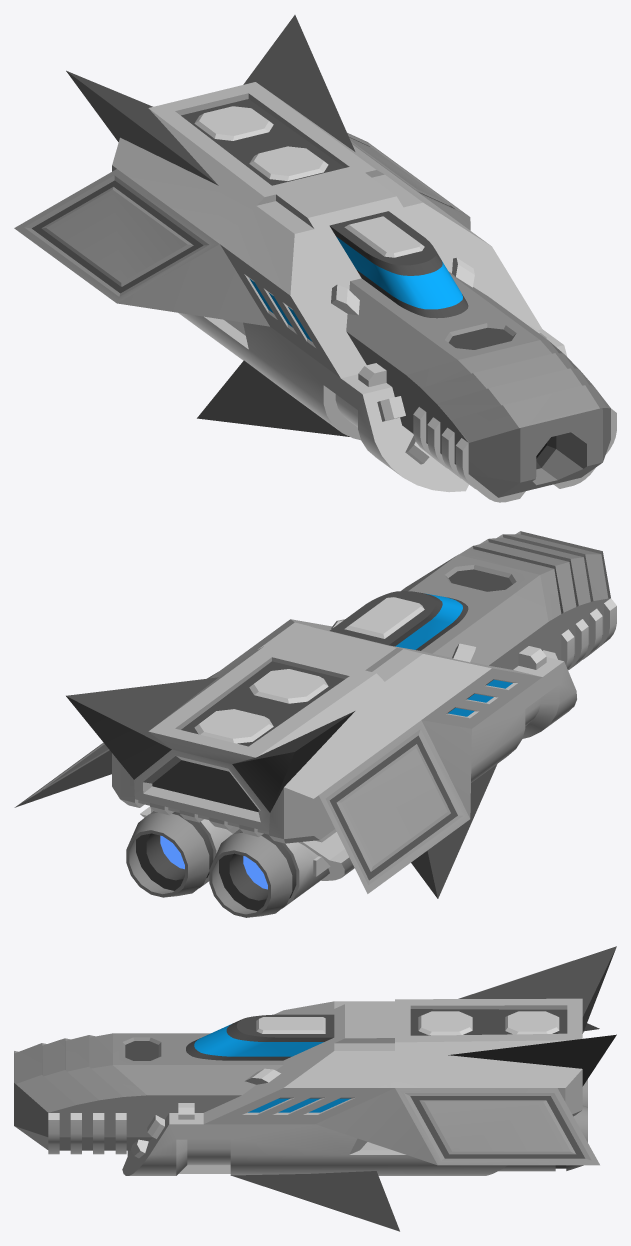
Rendered from Frigate01.fbx.
The picture shows the model from 3 angles, top to bottom: view 1: azimuth 30°, elevation 25°; view 2: azimuth 150°, elevation 25°; view 3: azimuth 270°, elevation 25°; orthographic projection. The views are drawn at different scales.
Visible parts, largest first — view 1: Mesh_HD; view 2: Mesh_HD; view 3: Mesh_HD.
Boxes of the visible parts, x1=… form: Mesh_HD: x1=14, y1=15, x2=616, y2=502; Mesh_HD: x1=14, y1=531, x2=616, y2=917; Mesh_HD: x1=14, y1=946, x2=616, y2=1231.
Bounding box in the file's own units: 298 × 198 × 557.
